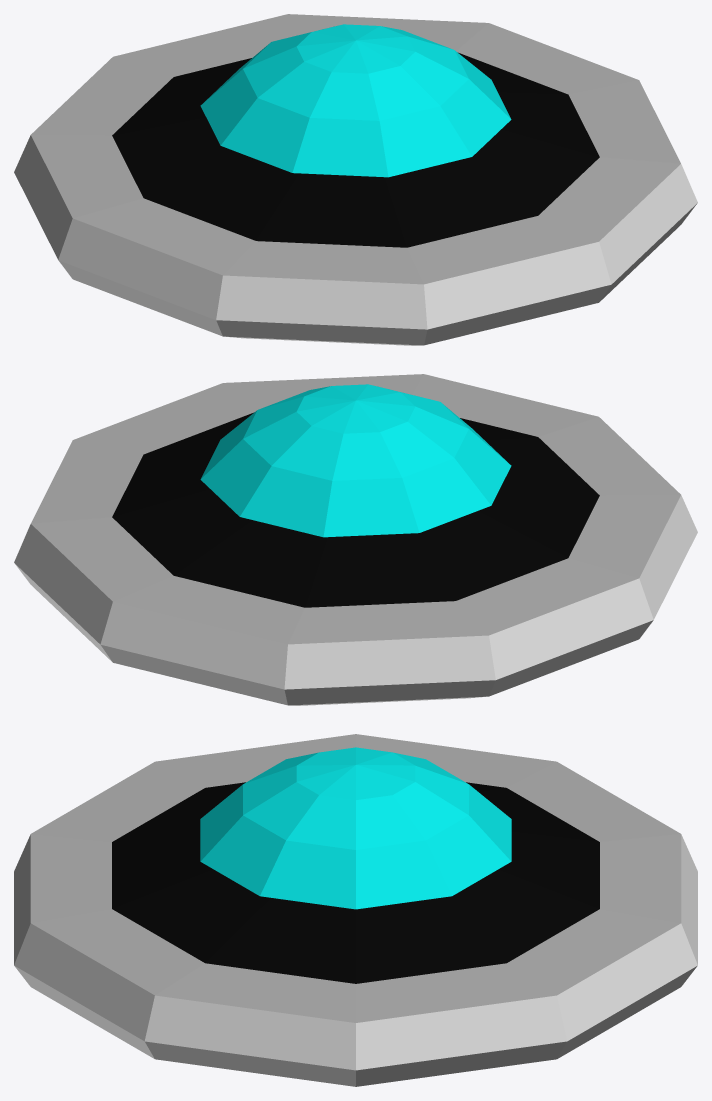
The model's file is flying saucer2.fbx.
3 renders of one model, top to bottom at view 1: azimuth 30°, elevation 25°; view 2: azimuth 150°, elevation 25°; view 3: azimuth 270°, elevation 25°, orthographic. The views are drawn at different scales.
Parts seen in each view (by area): view 1: flying_suacer; view 2: flying_suacer; view 3: flying_suacer.
Boxes of the visible parts, x1,y1,x2,y2 form: flying_suacer: (14,14,697,345); flying_suacer: (14,374,697,705); flying_suacer: (14,734,697,1086).
Size of the model in its own units: 3.95 by 1.4 by 3.75.
